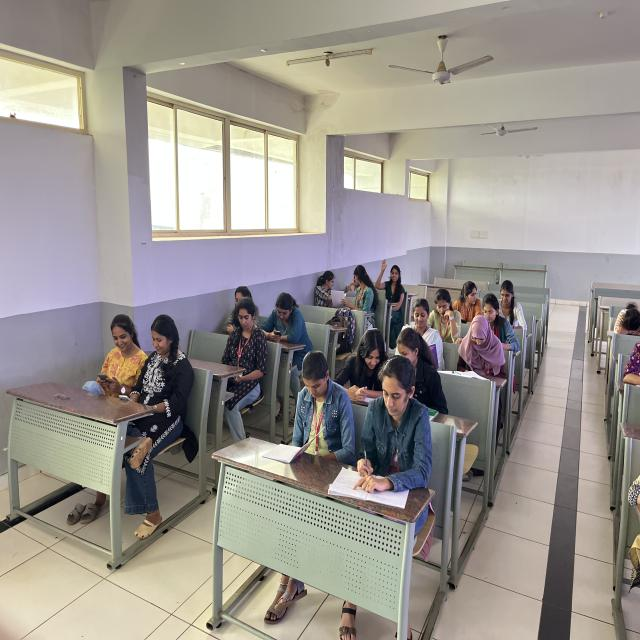Hand Rising: (372, 245, 441, 302)
Reading: (392, 298, 446, 368)
Using Phone: (111, 304, 188, 418), (293, 346, 357, 463), (228, 300, 267, 443), (84, 306, 143, 394), (262, 290, 315, 354), (461, 315, 501, 370)
Writing: (353, 362, 422, 511)
